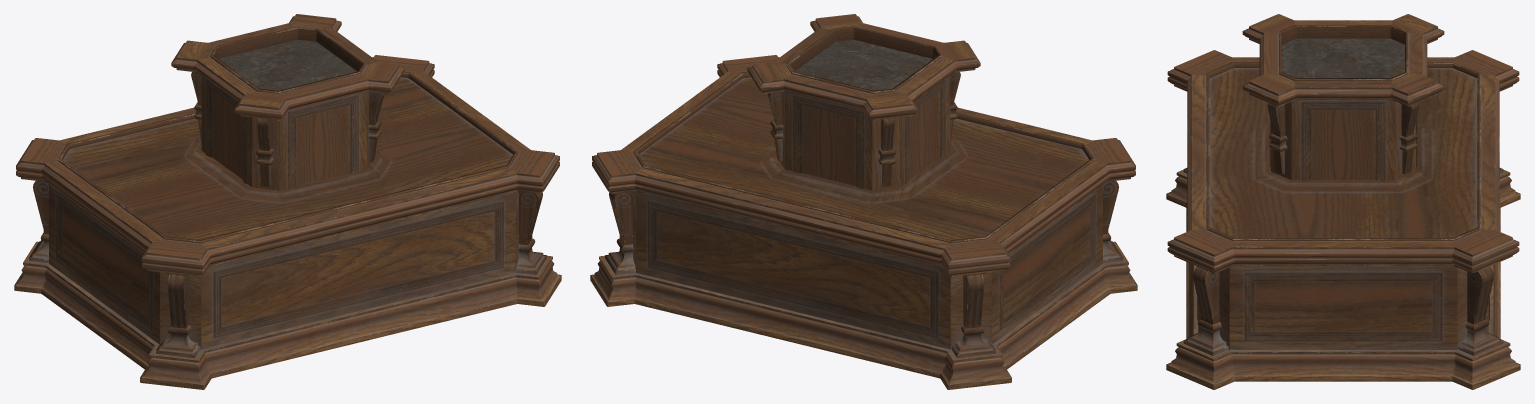
The model's file is SM_PlanterB.fbx.
3 views of the same model, side by side, from view 1: azimuth 30°, elevation 25°; view 2: azimuth 150°, elevation 25°; view 3: azimuth 270°, elevation 25° (orthographic). The views are drawn at different scales.
Visible parts, largest first — view 1: SM_PlanterB_LOD0; view 2: SM_PlanterB_LOD0; view 3: SM_PlanterB_LOD0.
Part boxes in pixels (x1,y1,x2,y2): SM_PlanterB_LOD0: [14, 14, 561, 389]; SM_PlanterB_LOD0: [590, 14, 1137, 389]; SM_PlanterB_LOD0: [1166, 14, 1520, 389].
Size of the model in its own units: 157 by 112 by 80.6.
Materials: 2 (2 with a texture image).
